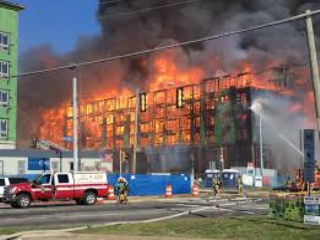fire: (30, 69, 245, 158)
smoke: (45, 2, 304, 70)
